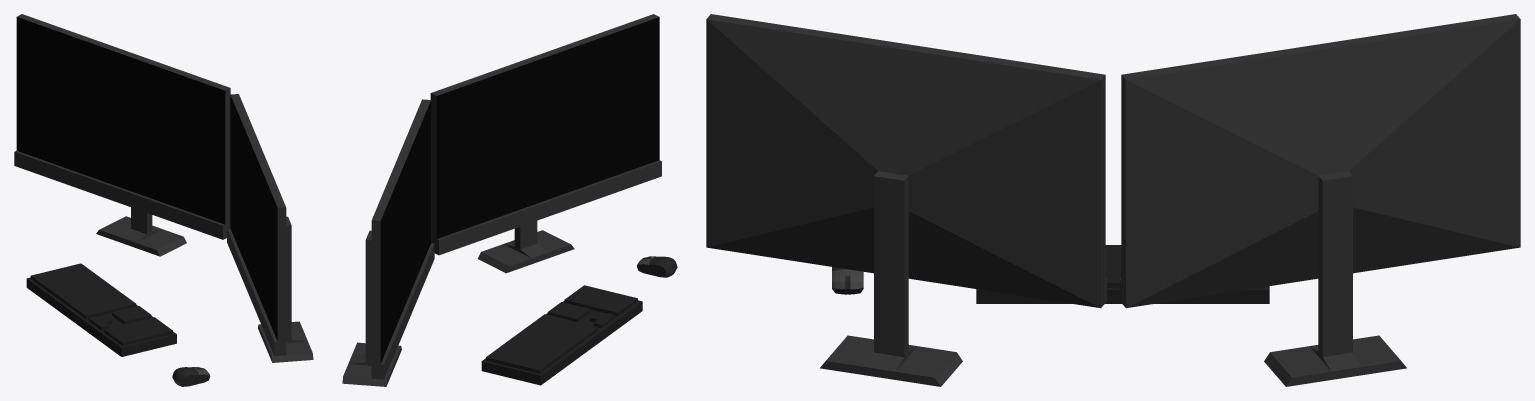
Rendered from pc_setup_dual_monitor.glb.
3 views of the same model, side by side, from view 1: azimuth 30°, elevation 25°; view 2: azimuth 150°, elevation 25°; view 3: azimuth 270°, elevation 25° (orthographic). The views are drawn at different scales.
Visible parts, largest first — view 1: Cube, Cube.003, Cube.001, Cube.002; view 2: Cube.003, Cube, Cube.001, Cube.002; view 3: Cube, Cube.003, Cube.001, Cube.002.
Boxes of the visible parts, <box> form: Cube: <box>14,14,230,256</box>; Cube.003: <box>227,94,313,362</box>; Cube.001: <box>26,263,176,356</box>; Cube.002: <box>172,367,210,386</box>; Cube.003: <box>430,14,661,273</box>; Cube: <box>342,99,434,386</box>; Cube.001: <box>481,285,642,385</box>; Cube.002: <box>637,256,677,277</box>; Cube: <box>1119,14,1520,386</box>; Cube.003: <box>706,14,1107,386</box>; Cube.001: <box>976,245,1269,303</box>; Cube.002: <box>832,267,863,294</box>.
Size of the model in its own units: 0.9142 by 1.03 by 2.52.
Materials: 7 (7 with a texture image).
